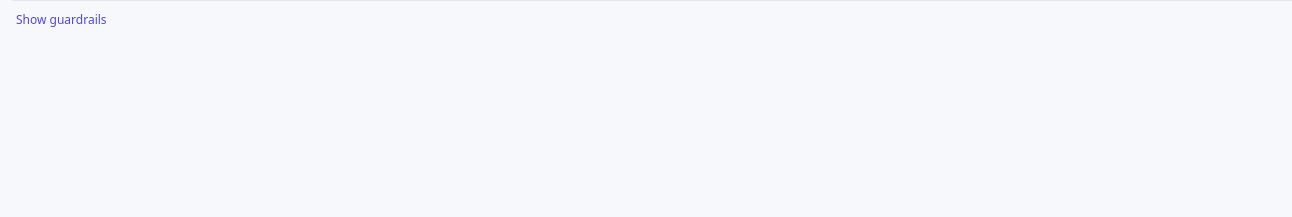
Test: GuardrailsPanel › lists allow and block outcomes, highlighting the non-allow one
Click the button "Show guardrails": x=61, y=20 [12, 10, 111, 30]
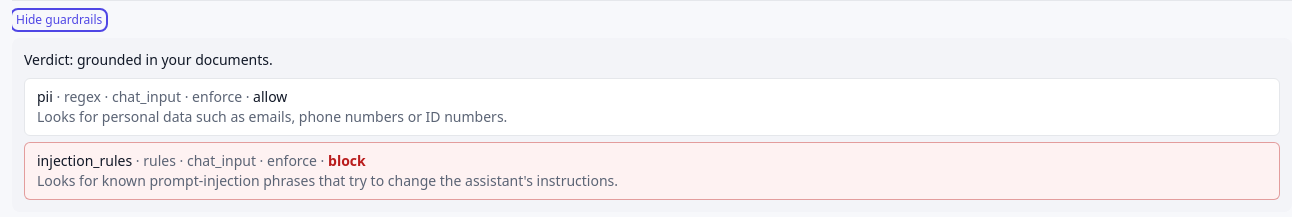
Now the number of list items is 2, box [24, 78, 1280, 136]; [24, 142, 1280, 200]
Now the list item that starts with "pii" is shown, box [37, 87, 53, 106]
Now the list item that starts with "pii" shows "regex", box [64, 87, 101, 106]
